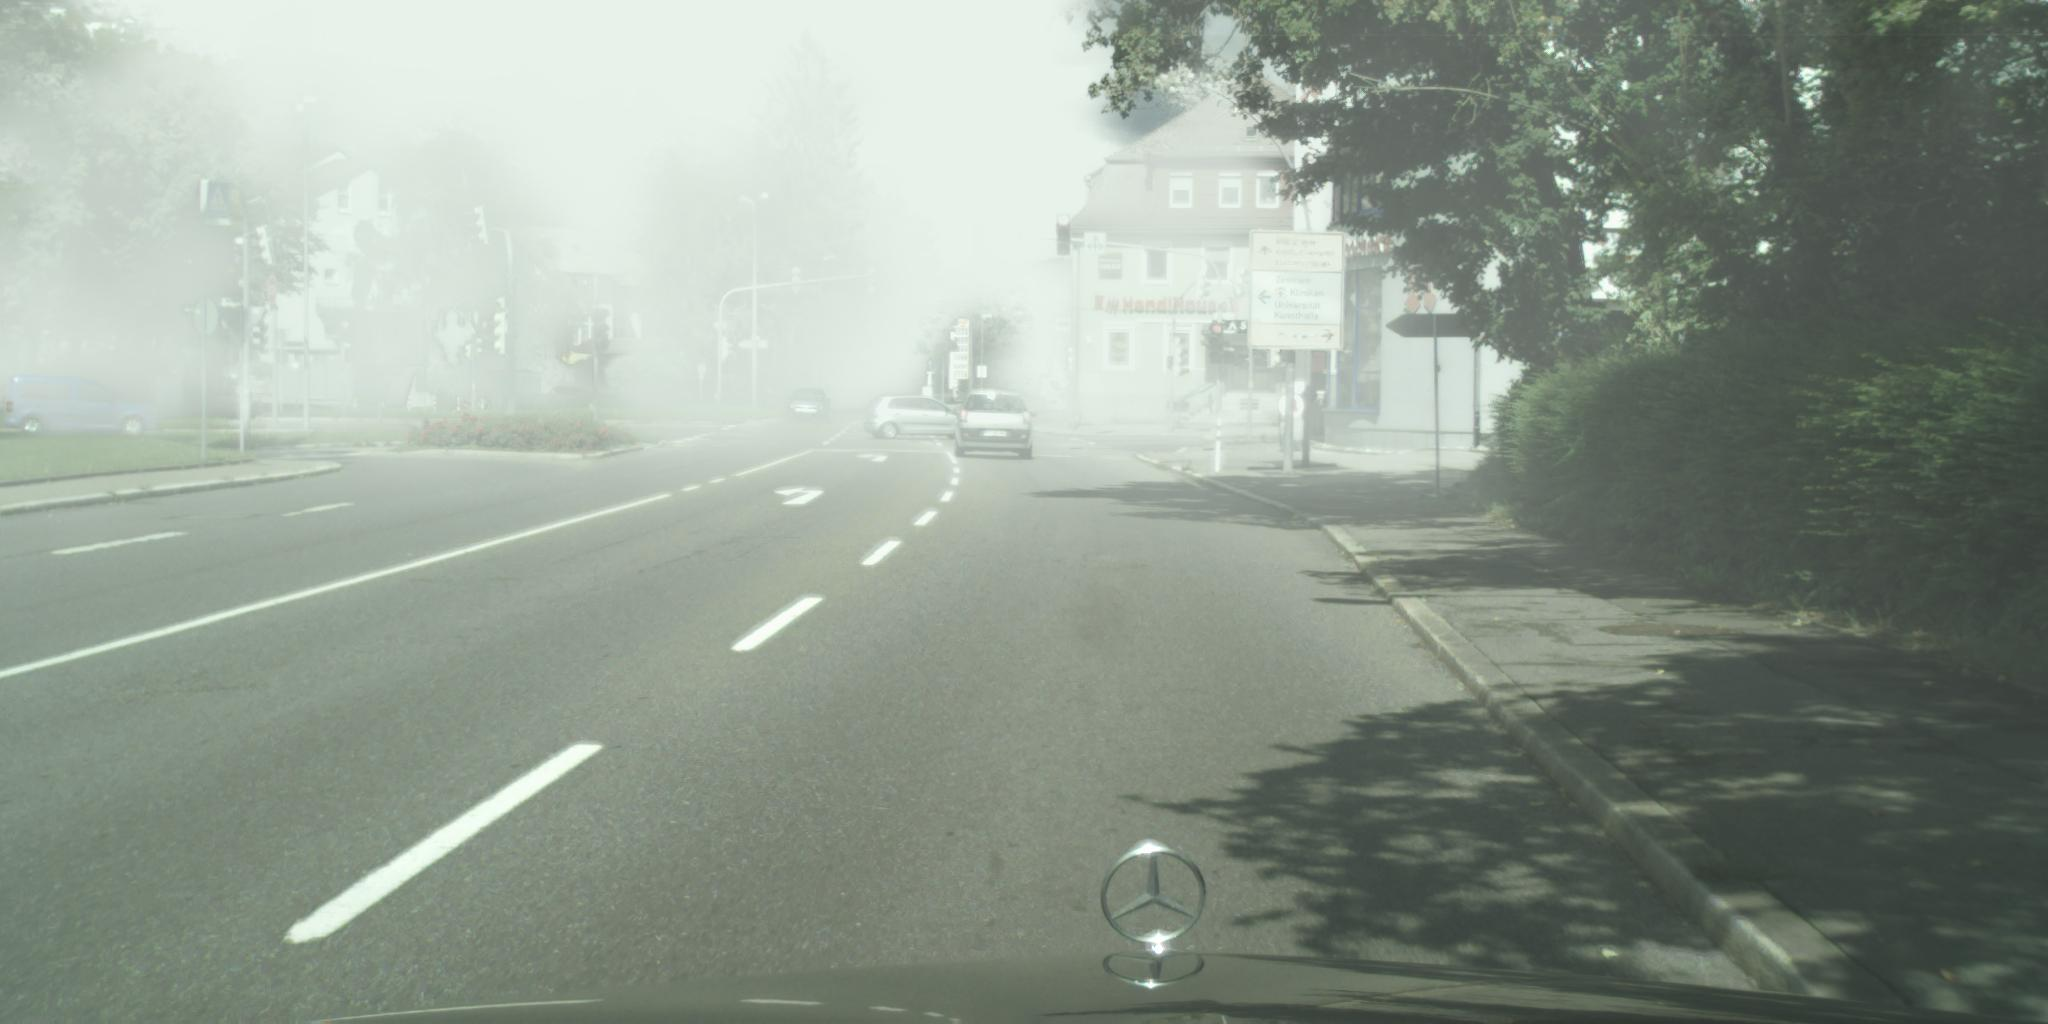car: (3, 375, 165, 439), (952, 391, 1038, 461), (863, 394, 963, 441), (788, 388, 832, 423), (1045, 391, 1071, 413)
